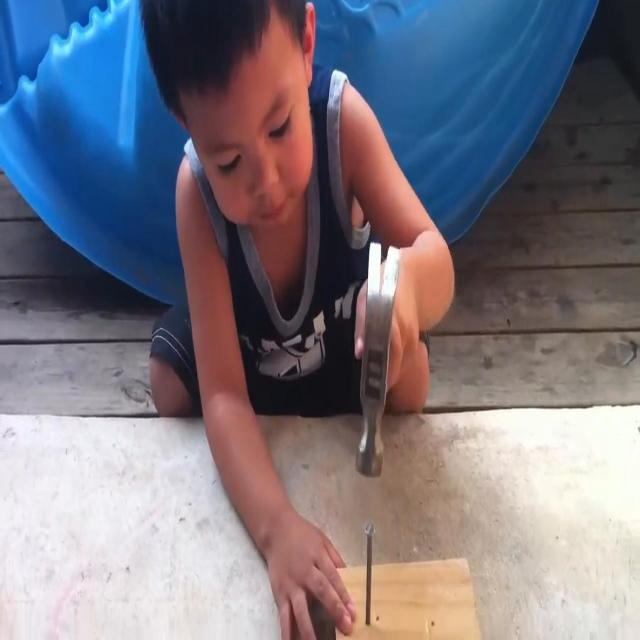hammer: (356, 237, 402, 483)
